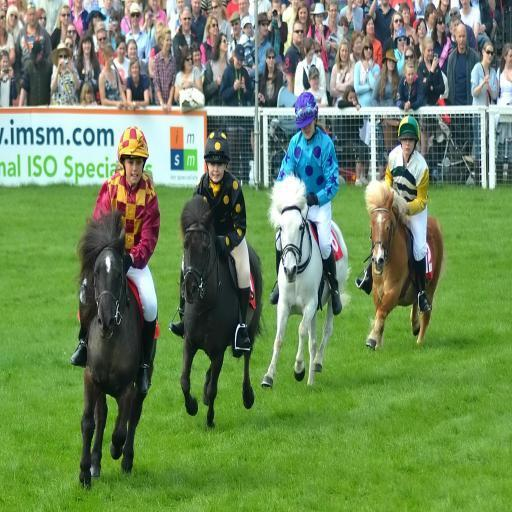horse: (71, 203, 160, 494), (176, 196, 268, 429), (260, 177, 350, 388), (364, 180, 445, 350)
